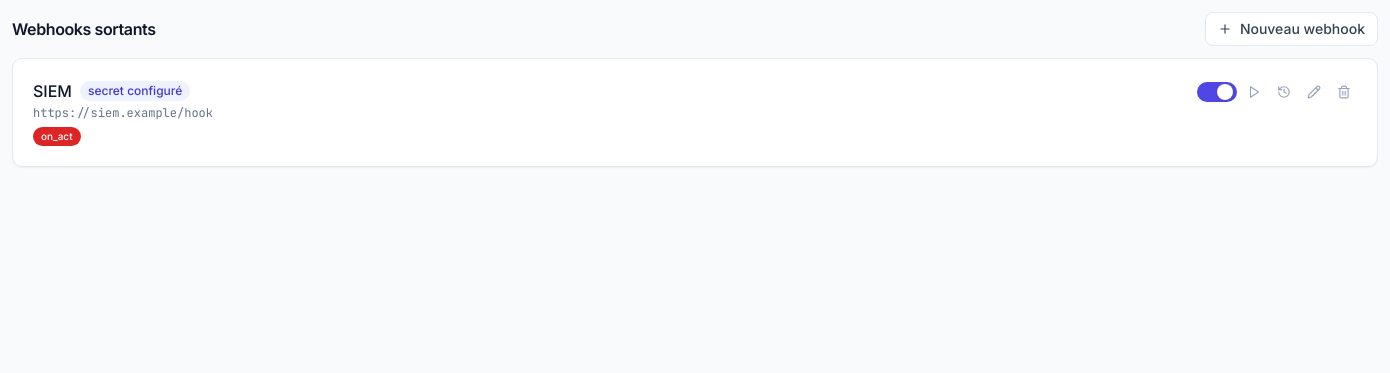
it: WebhooksSection › déplie les logs à la demande
Check: the text "SIEM" is shown, box [33, 79, 72, 103]
Click the button named "Historique de SIEM".
click(1284, 92)  # box [1271, 79, 1297, 105]
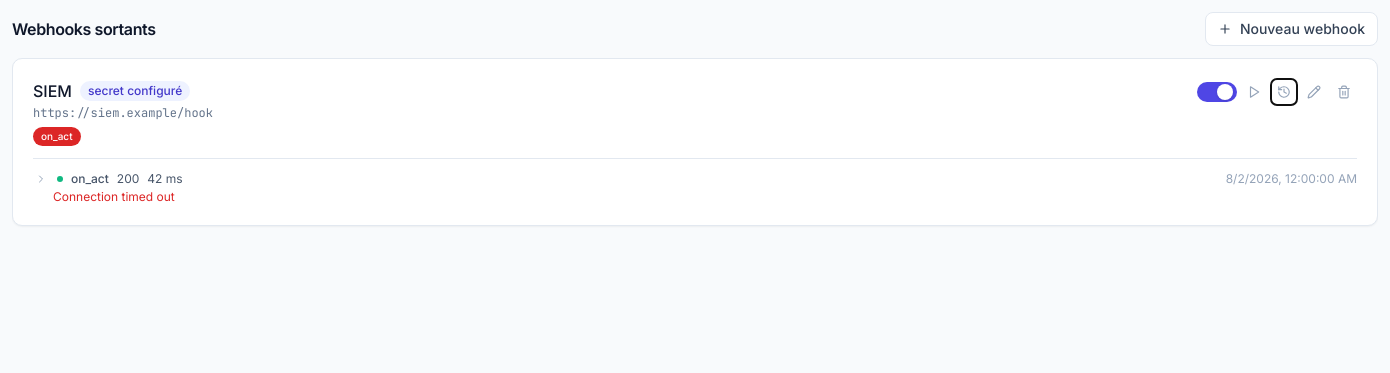
Check: the text "\"decision\": \"Act\"" is not shown
Check: the text "on_act" next to "200" is shown, box [71, 171, 109, 186]
Check: the text "Connection timed out" is shown, box [53, 189, 175, 204]
Click the button named "Voir le détail".
click(41, 179)  # box [33, 171, 49, 187]
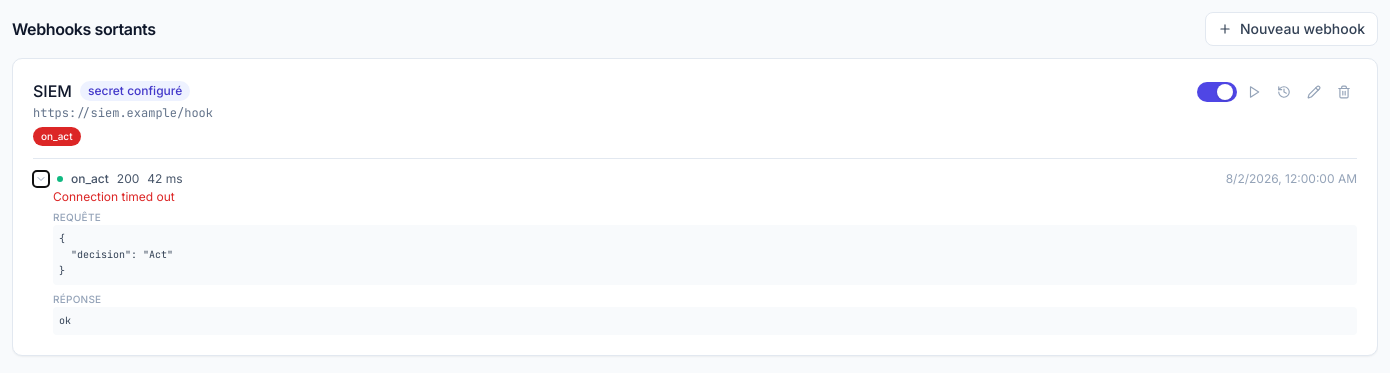
Check: the button named "Voir le détail" is expanded, box [33, 171, 49, 187]
Check: the text "{ \"decision\": \"Act\" }" is shown, box [53, 225, 1357, 285]
